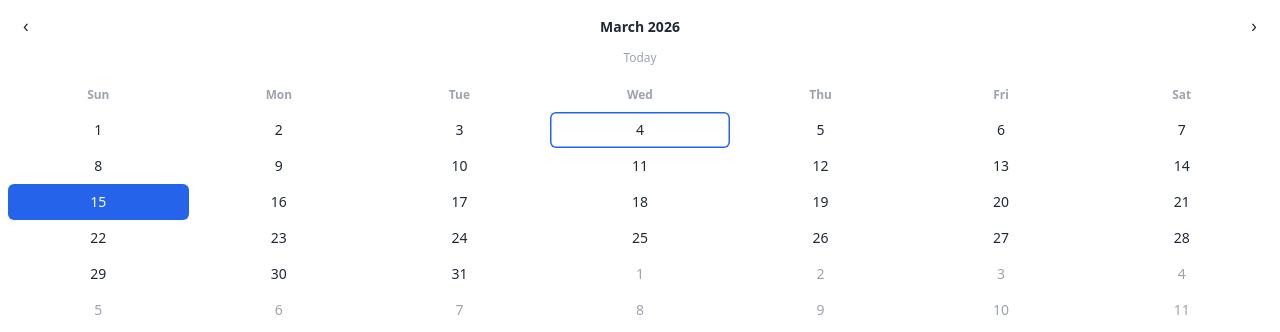
Test: CalendarWidget quick navigation › opens month picker when heading is clicked
The image size is (1280, 332).
Click the button with aria-label "choose month and year" at (640, 27), box [592,16,688,38]
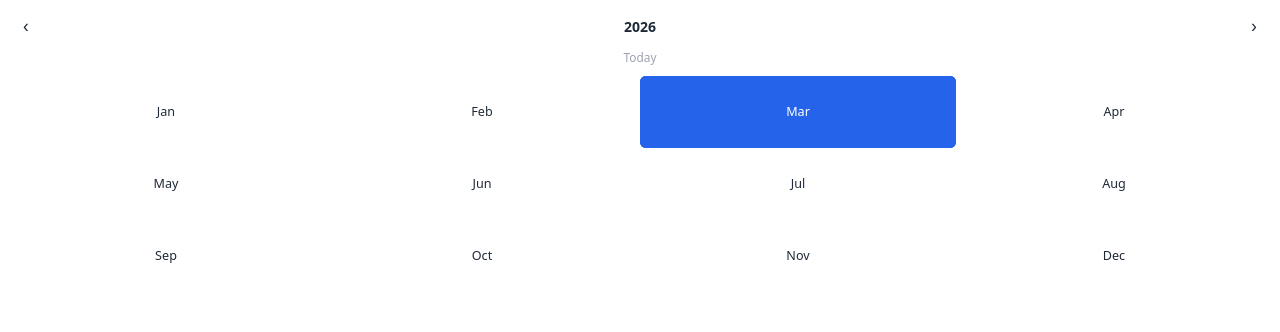
Check: the button "2026" is shown, box [616,16,664,38]
Check: the table named "month picker" is shown
Check: the table "Calendar" is gone
